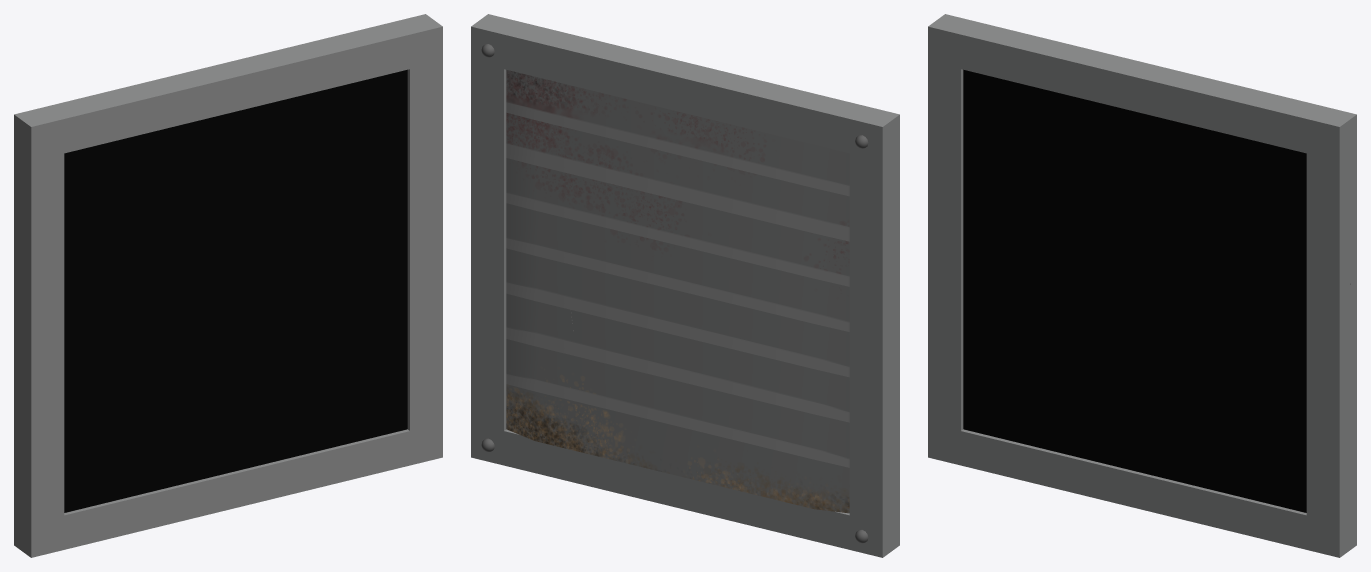
File: Prop_Vent.fbx
The picture shows the model from 3 angles, left to right: view 1: azimuth 30°, elevation 25°; view 2: azimuth 150°, elevation 25°; view 3: azimuth 330°, elevation 25°; orthographic projection.
Visible parts, largest first — view 1: Cube.005; view 2: Cube.005; view 3: Cube.005.
Part boxes in pixels (bbox=[...]): Cube.005: bbox=[14, 14, 442, 557]; Cube.005: bbox=[471, 14, 899, 557]; Cube.005: bbox=[928, 14, 1356, 557].
Bounding box in the file's own units: 95.13 × 95.13 × 8.92.
